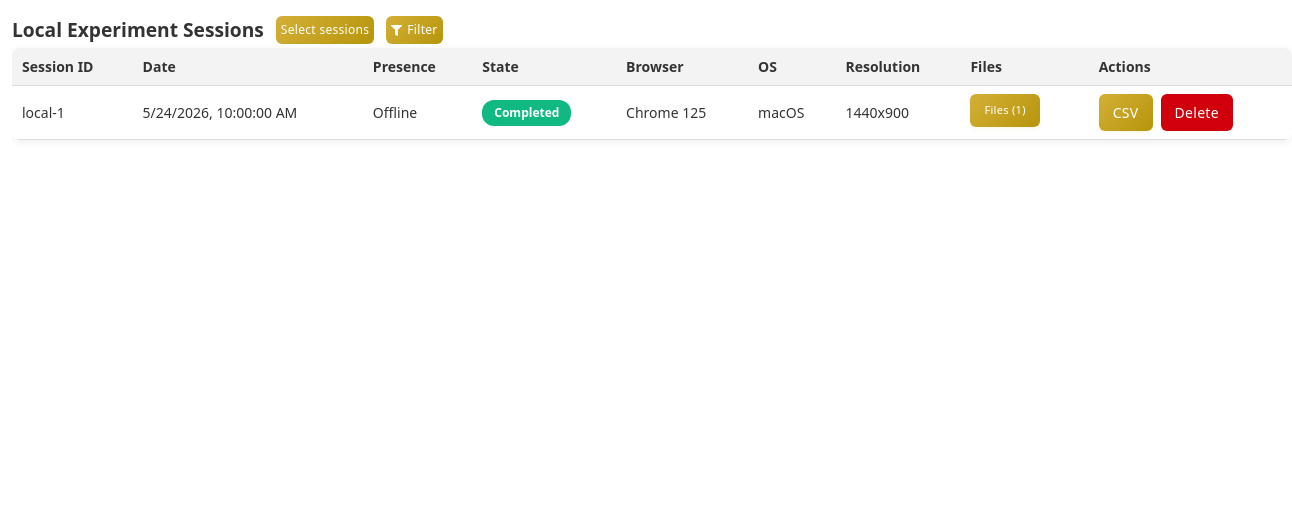
Test: ResultsList container › filters local sessions and clears active filters
Expected: the text "local-1" is shown, [12, 86, 133, 140]
Click the button "Filter" at (414, 30), box [386, 16, 443, 44]
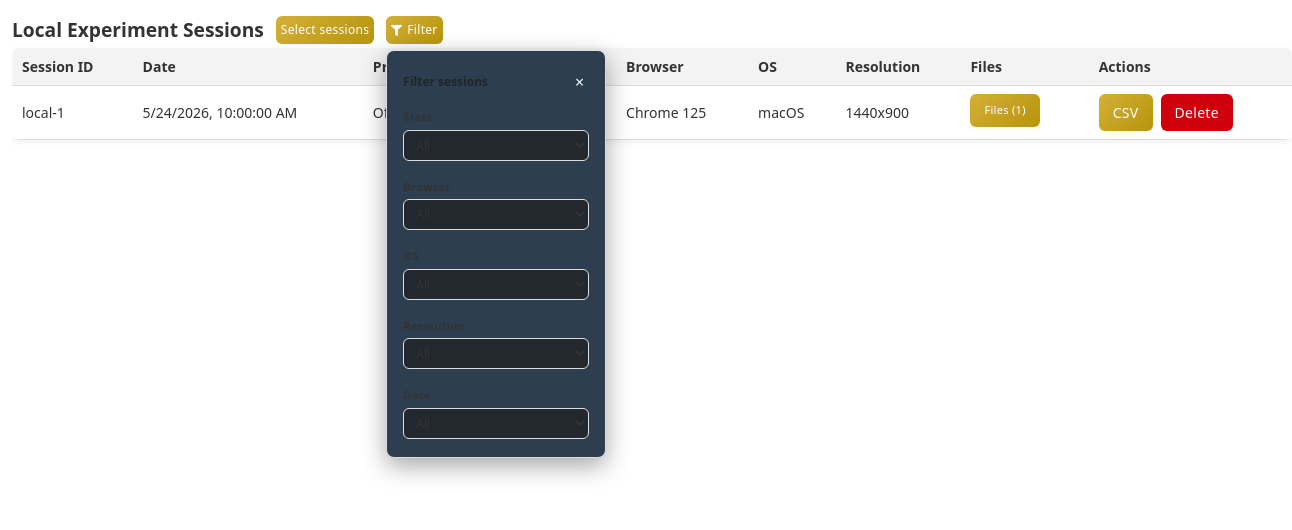
Select "Initiated" in the dropdown labelled "State" at (496, 145), box [403, 130, 589, 160]
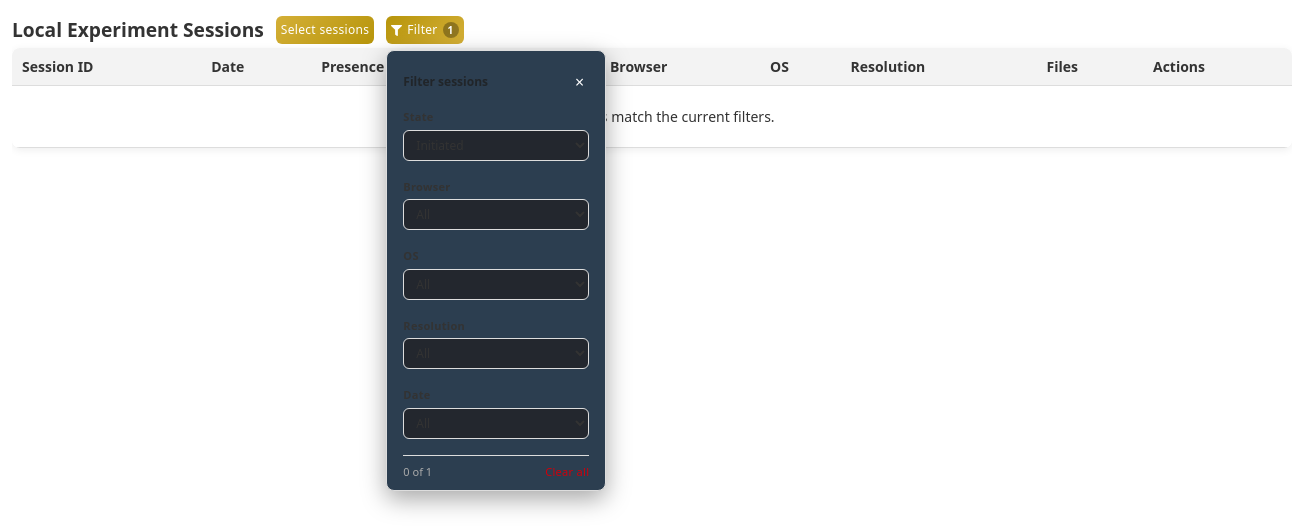
Now the text "local-1" is gone
Now the text "No sessions match the current filters." is shown, box [12, 86, 1291, 148]
Now the text "0 of 1" is shown, box [403, 464, 432, 480]
Click the button "Clear all" at (567, 472), box [545, 464, 589, 480]
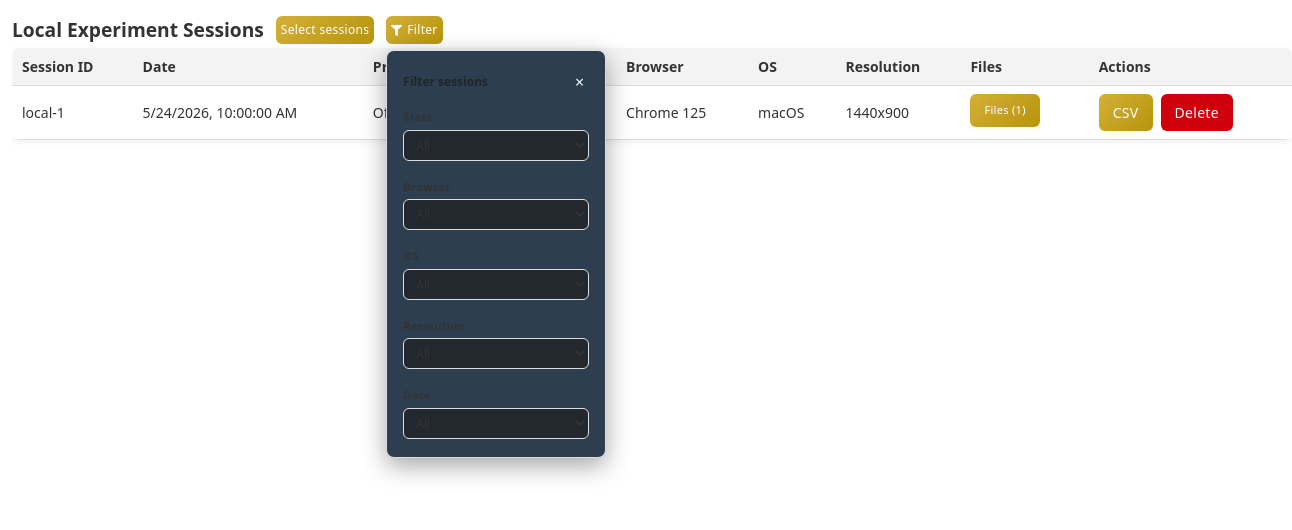
Now the text "local-1" is shown, box [12, 86, 133, 140]
